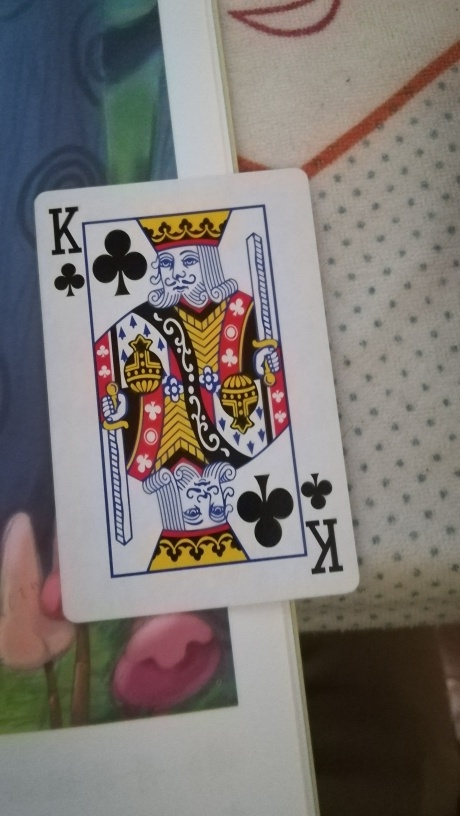mh k: (32, 168, 355, 626)
